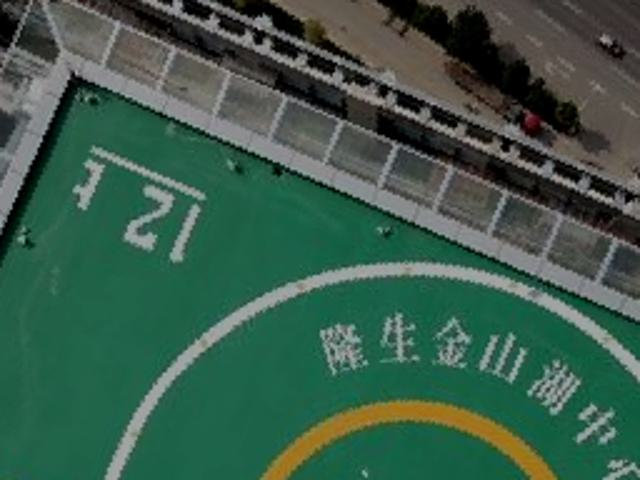Apron: (236, 387, 615, 480)
